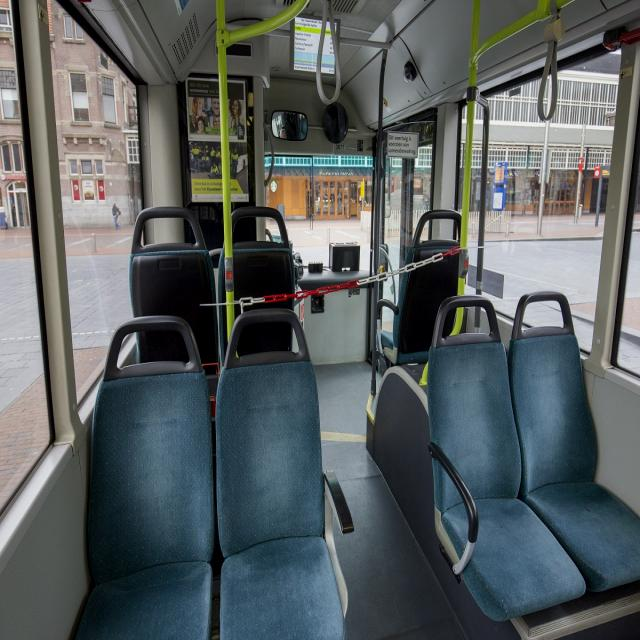asiento-libre: (427, 294, 586, 623), (216, 308, 354, 639), (76, 315, 214, 639), (507, 291, 640, 594), (129, 206, 220, 402), (375, 209, 464, 367), (218, 206, 297, 364)
